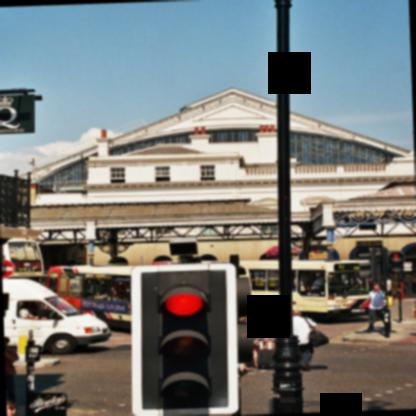backpack: (372, 291, 384, 310), (414, 300, 416, 307)
handbag: (304, 317, 330, 348)
suitcase: (257, 348, 276, 370)
